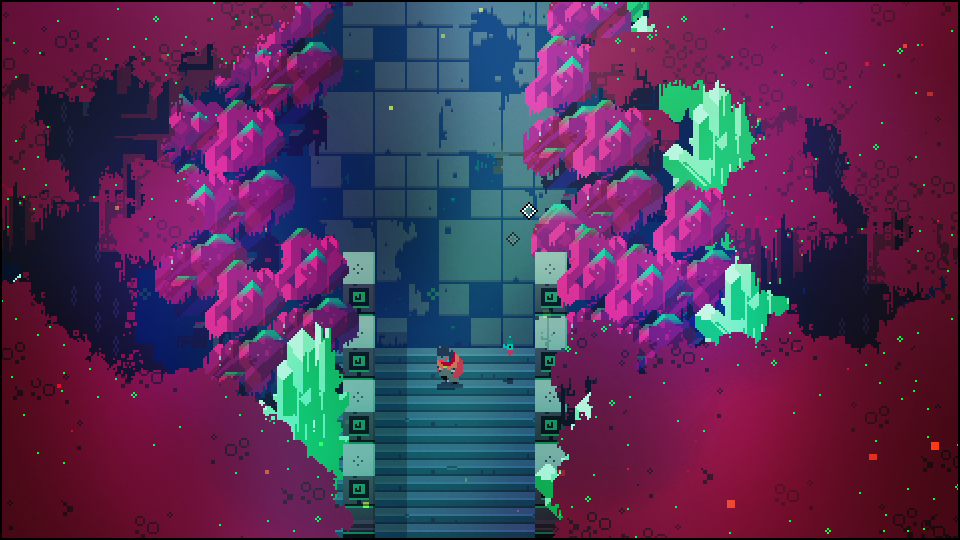player: (432, 346, 464, 384)
